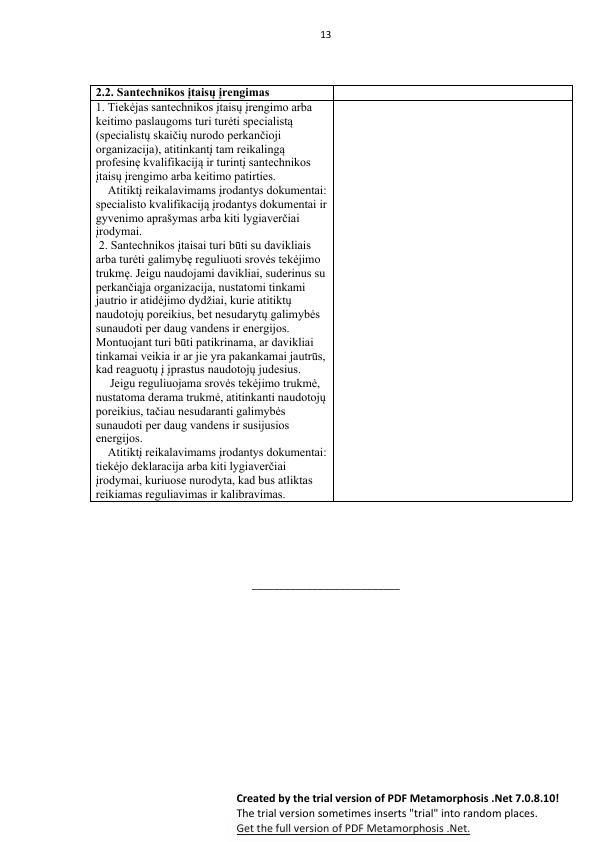table: (87, 80, 577, 507)
